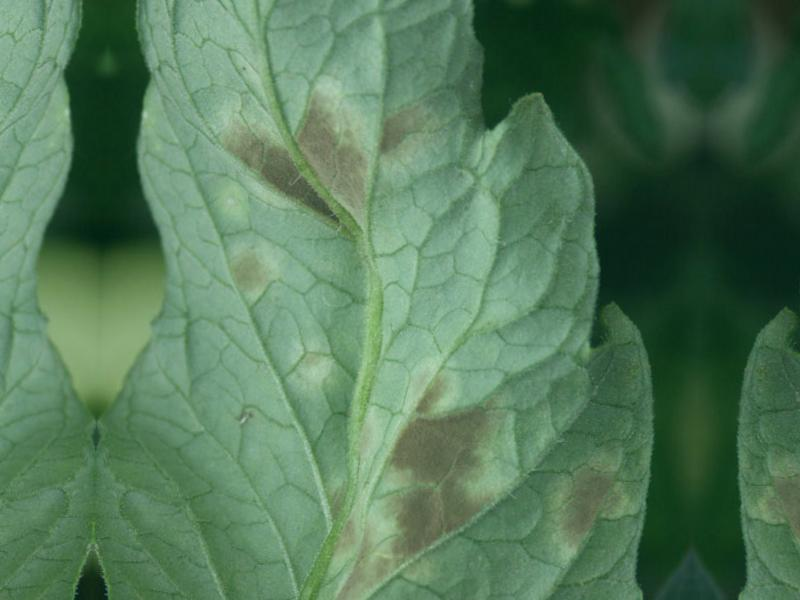Tomato mold leaf: (98, 0, 687, 600)
